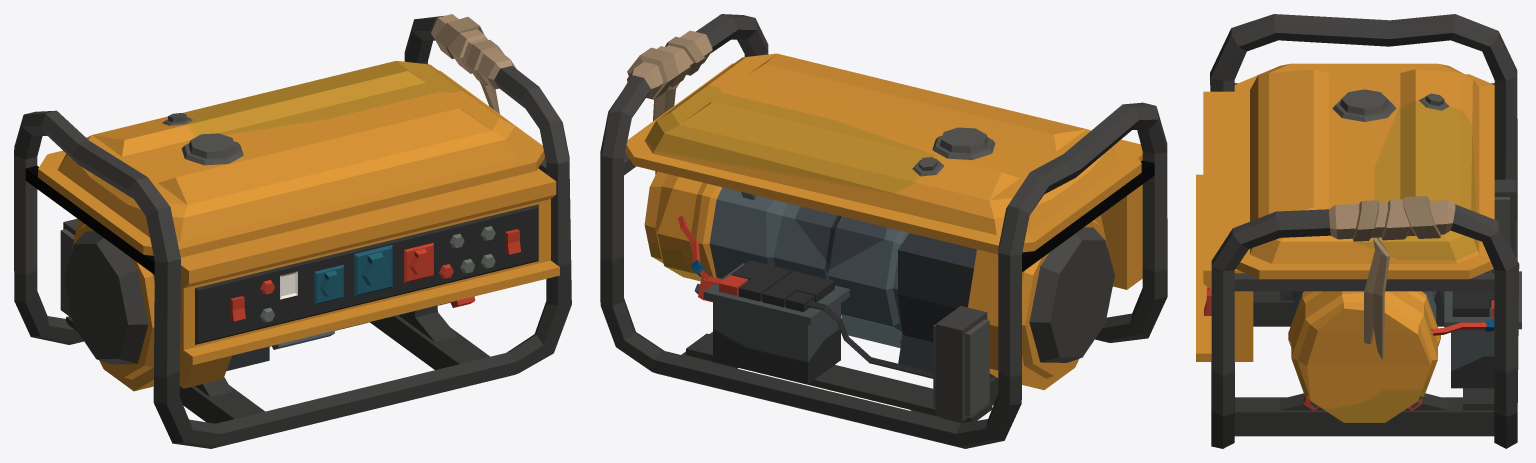
The model's file is SM_Diesel_Generator.fbx.
3 views of the same model, side by side, from view 1: azimuth 30°, elevation 25°; view 2: azimuth 150°, elevation 25°; view 3: azimuth 270°, elevation 25° (orthographic). The views are drawn at different scales.
Visible parts, largest first — view 1: SM_Diesel_Generator; view 2: SM_Diesel_Generator; view 3: SM_Diesel_Generator.
Boxes of the visible parts, x1,y1,x2,y2 form: SM_Diesel_Generator: [14, 14, 571, 448]; SM_Diesel_Generator: [600, 14, 1167, 448]; SM_Diesel_Generator: [1196, 14, 1521, 448].
Size of the model in its own units: 80.42 by 48.68 by 53.36.
